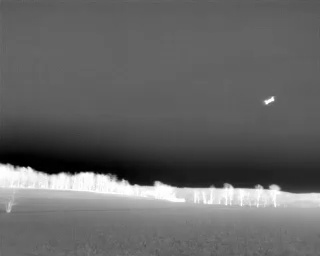DRONE: (260, 92, 279, 109)
